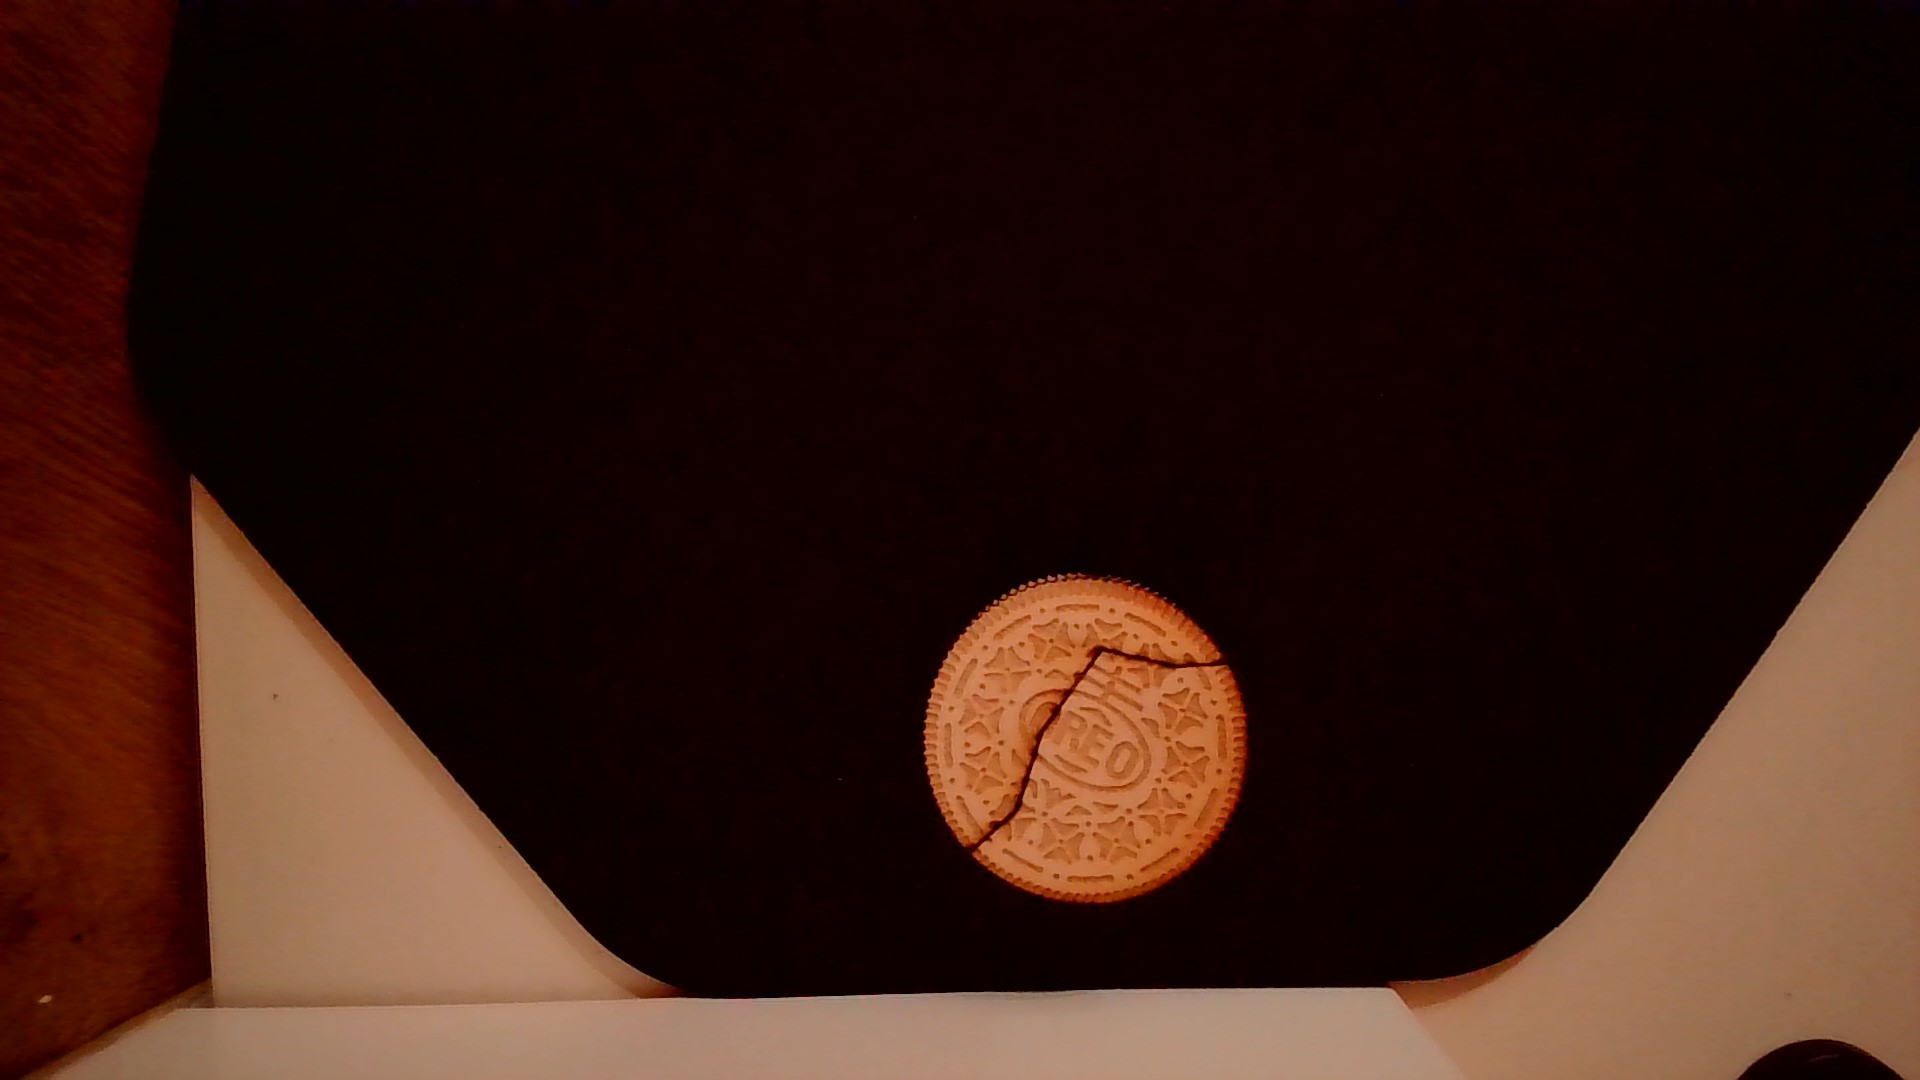Fissure: (956, 636, 1244, 858)
Oréo: (911, 564, 1253, 915)
